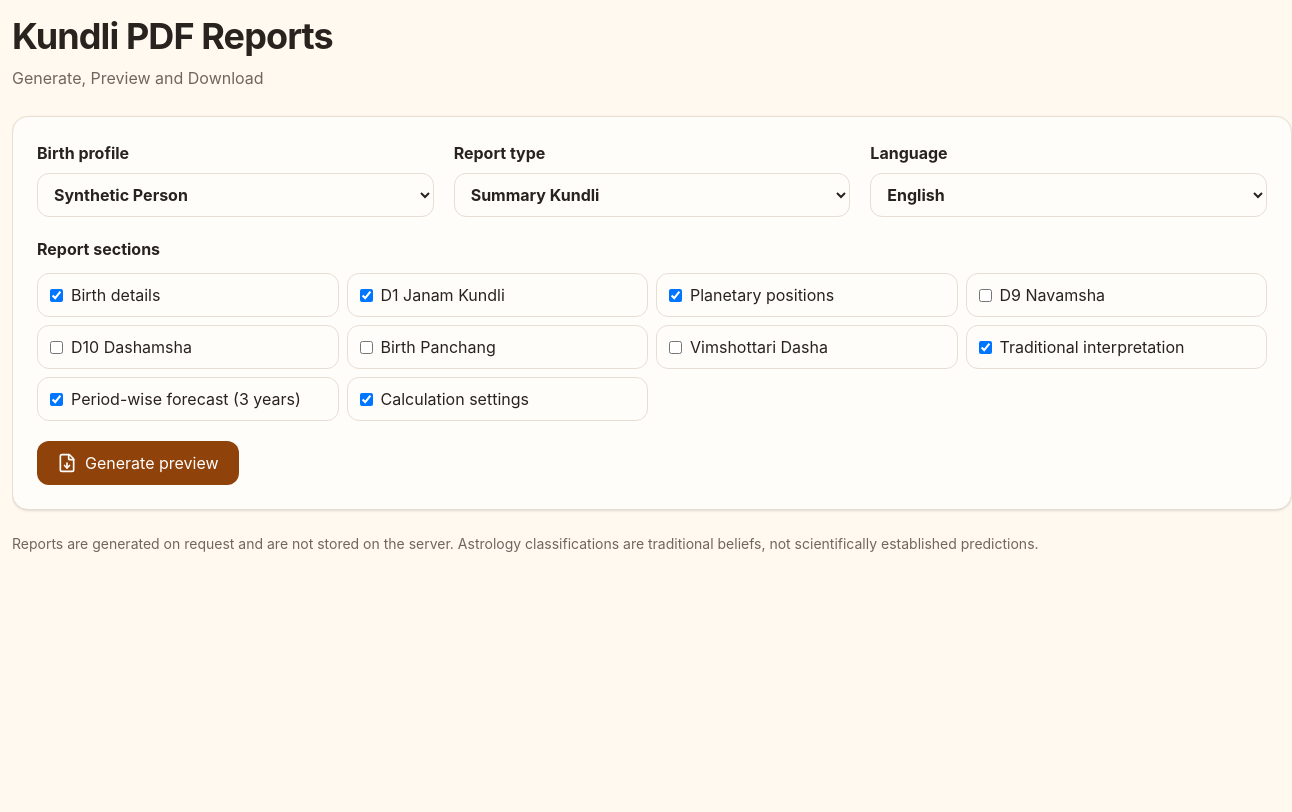
Scenario: ReportsPage › shows API errors
Click the button "Generate preview" at (138, 463), box [37, 441, 238, 485]
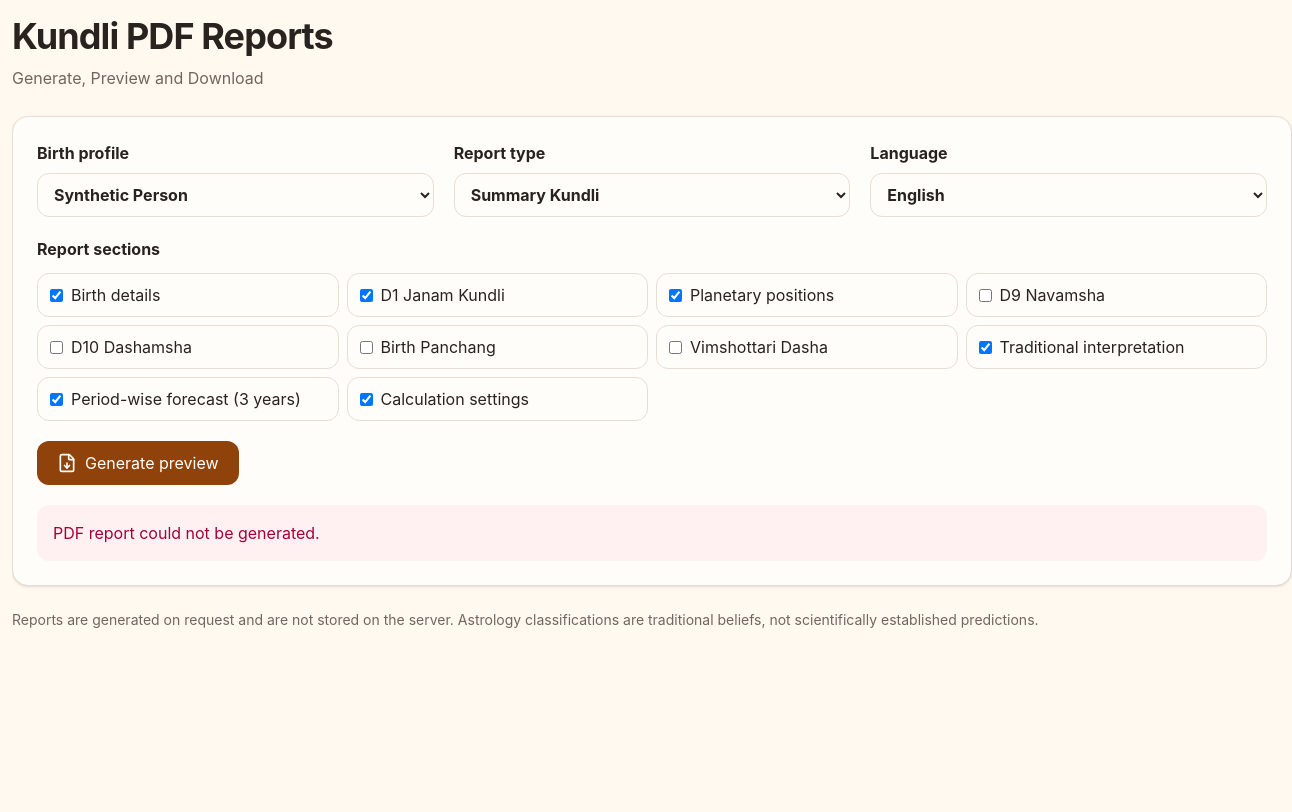
Check: the message reads "PDF report could not be generated.", box [53, 523, 320, 543]
